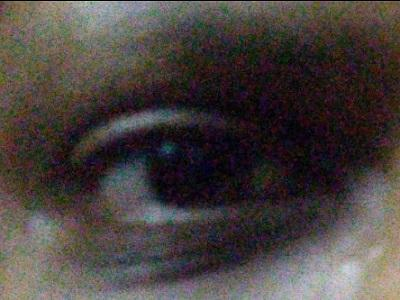open: (55, 83, 342, 256)
